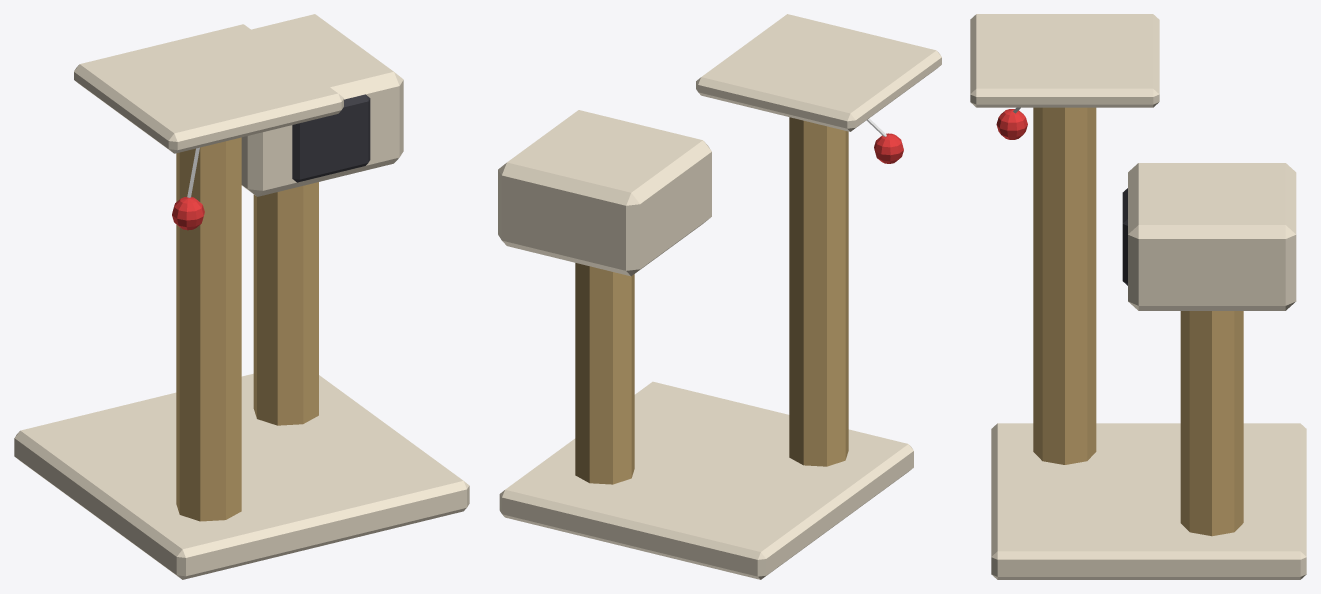
The model's file is CatTree.fbx.
3 renders of one model, left to right at view 1: azimuth 30°, elevation 25°; view 2: azimuth 150°, elevation 25°; view 3: azimuth 270°, elevation 25°, orthographic. The views are drawn at different scales.
Visible parts, largest first — view 1: CatTree; view 2: CatTree; view 3: CatTree.
Boxes of the visible parts, x1=… form: CatTree: x1=14, y1=14, x2=469, y2=579; CatTree: x1=498, y1=14, x2=941, y2=579; CatTree: x1=970, y1=14, x2=1306, y2=579.
Size of the model in its own units: 3.3 by 4.5 by 3.2.
1 material, 1 textured.
